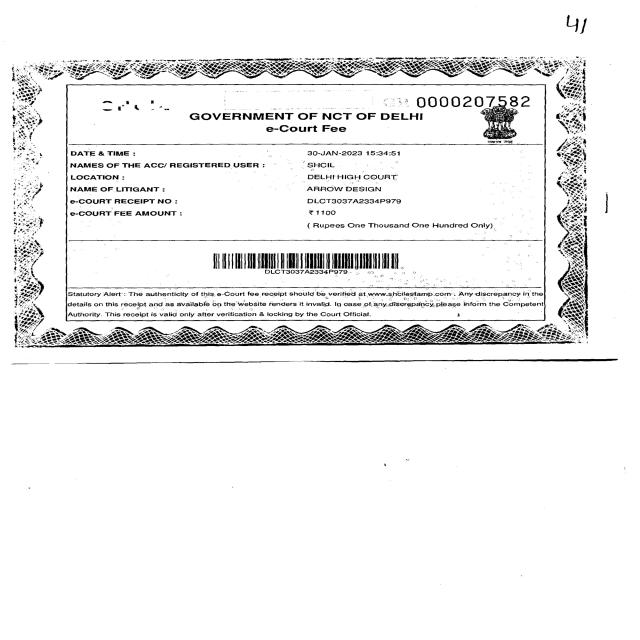page-number: (323, 0, 640, 49)
